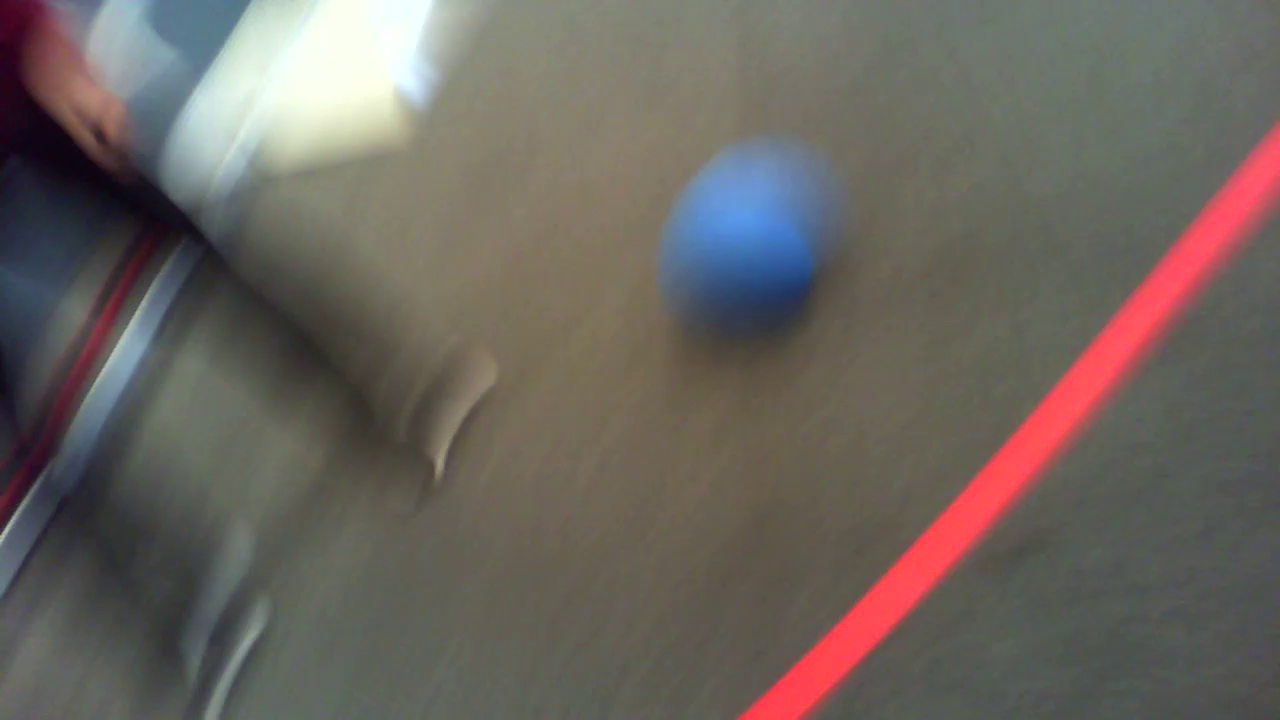blue_cargo: (659, 152, 836, 329)
